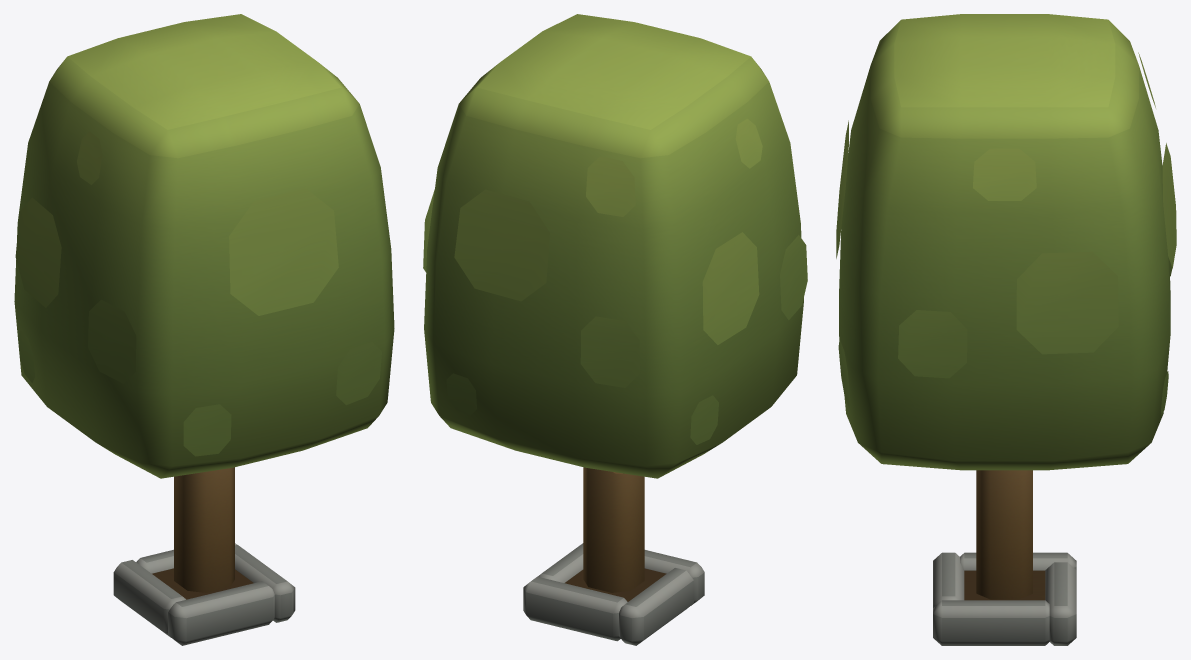
Rendered from tree_5.fbx.
3 renders of one model, left to right at view 1: azimuth 30°, elevation 25°; view 2: azimuth 150°, elevation 25°; view 3: azimuth 270°, elevation 25°, orthographic. The views are drawn at different scales.
Parts seen in each view (by area): view 1: tree_5; view 2: tree_5; view 3: tree_5.
Part boxes in pixels (x1,y1,x2,y2): tree_5: (14,14,394,645); tree_5: (423,14,807,645); tree_5: (836,14,1176,645).
Size of the model in its own units: 386 by 695 by 379.
